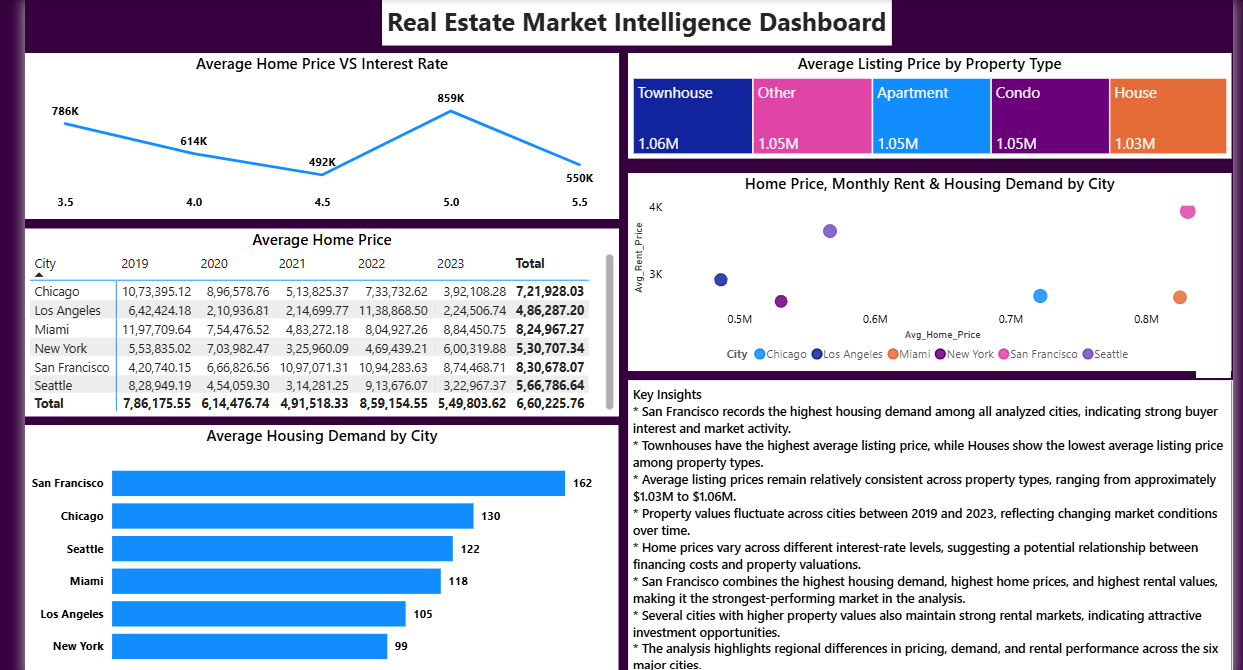

The page's visual inventory and layout, read from the dashboard file:
{"tool":"powerbi","page":{"name":"Market Trends & Demand Analysis","canvas":[1280,720],"ordinal":1},"visuals":[{"type":"lineChart","title":"Average Home Price VS Interest Rate","fields":{"Y":["Properties_transactions_cleaned.Avg_Home_Price"],"Category":["Market_Trends.Interest_Rate"]},"box":[0,57.1,630,175.7],"z":0},{"type":"treemap","title":"Average Listing Price by Property Type","fields":{"Group":["Properties_transactions_cleaned.Type"],"Values":["Properties_transactions_cleaned.Avg_Listing_Price"]},"box":[639.8,56.7,639.8,112],"z":1000},{"type":"pivotTable","title":"Average Home Price","fields":{"Rows":["Market_Trends.City"],"Columns":["Market_Trends.Year"],"Values":["Properties_transactions_cleaned.Avg_Home_Price"]},"box":[0,242.8,629.6,199.2],"z":2000},{"type":"clusteredBarChart","title":"Average Housing Demand by City","fields":{"Y":["Properties_transactions_cleaned.Avg_Housing_Demand"],"Category":["Market_Trends.City"]},"box":[0,452.2,629.6,267.6],"z":3000},{"type":"textbox","box":[640,404.3,640,315.7],"z":4000},{"type":"scatterChart","title":"Home Price, Monthly Rent & Housing Demand by City","fields":{"Y":["Properties_transactions_cleaned.Avg_Rent_Price"],"X":["Properties_transactions_cleaned.Avg_Home_Price"],"Series":["Market_Trends.City"],"Size":["Sum(Market_Trends.Housing_Demand_Index)"]},"box":[640,184.3,640,210],"z":5000},{"type":"textbox","box":[378.3,0,540.6,49.3],"z":6000}]}

Visuals, with their boxes in screenshot pixels (x1, y1, x2, y2):
"Average Home Price VS Interest Rate" lineChart: box(16, 48, 616, 215)
"Average Listing Price by Property Type" treemap: box(625, 47, 1234, 154)
"Average Home Price" pivotTable: box(16, 225, 615, 414)
"Average Housing Demand by City" clusteredBarChart: box(16, 424, 615, 669)
textbox: box(625, 378, 1234, 669)
"Home Price, Monthly Rent & Housing Demand by City" scatterChart: box(625, 169, 1234, 369)
textbox: box(376, 0, 891, 40)
